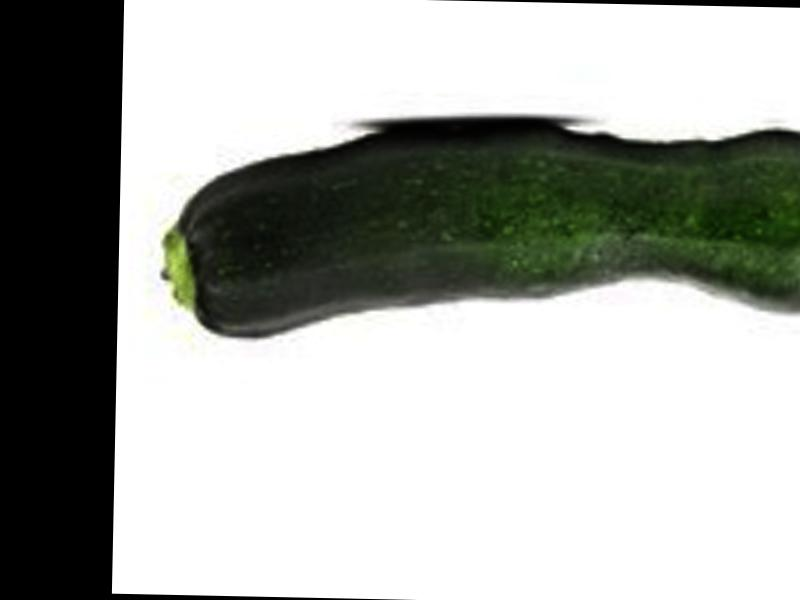Cucumber: (158, 115, 800, 352)
